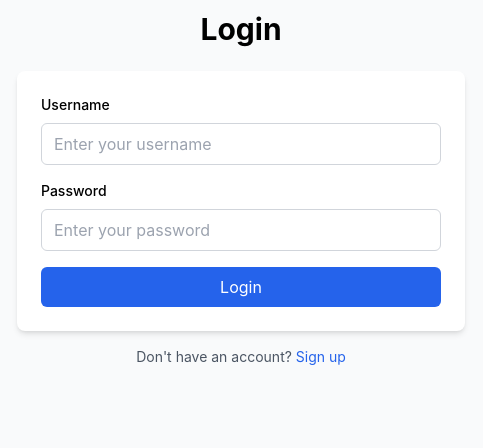
Test: Login › should show error message on login failure
In the field with placeholder "Enter your username": (241, 144) top-left (41, 123), bottom-right (441, 165), type "testuser"
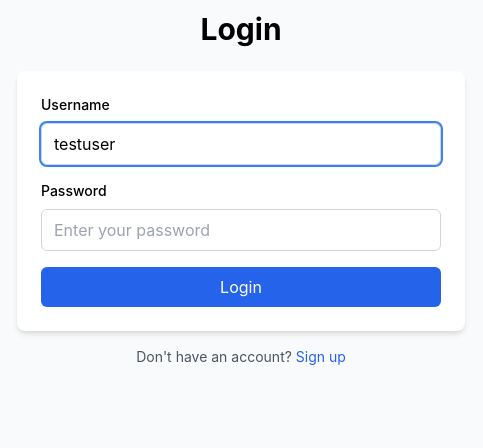
In the password field with placeholder "Enter your password": (241, 230) top-left (41, 209), bottom-right (441, 251), type "wrong"
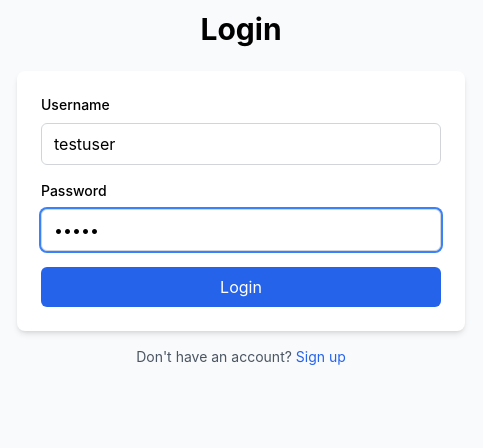
Click the button "Login": click(241, 287) top-left (41, 267), bottom-right (441, 307)
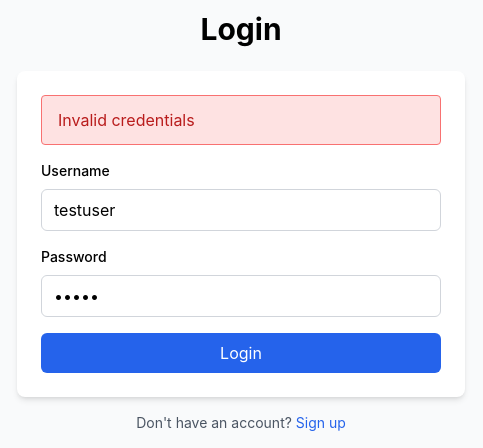
expect the text "Invalid credentials" is shown: met, box top-left (41, 95), bottom-right (441, 145)
